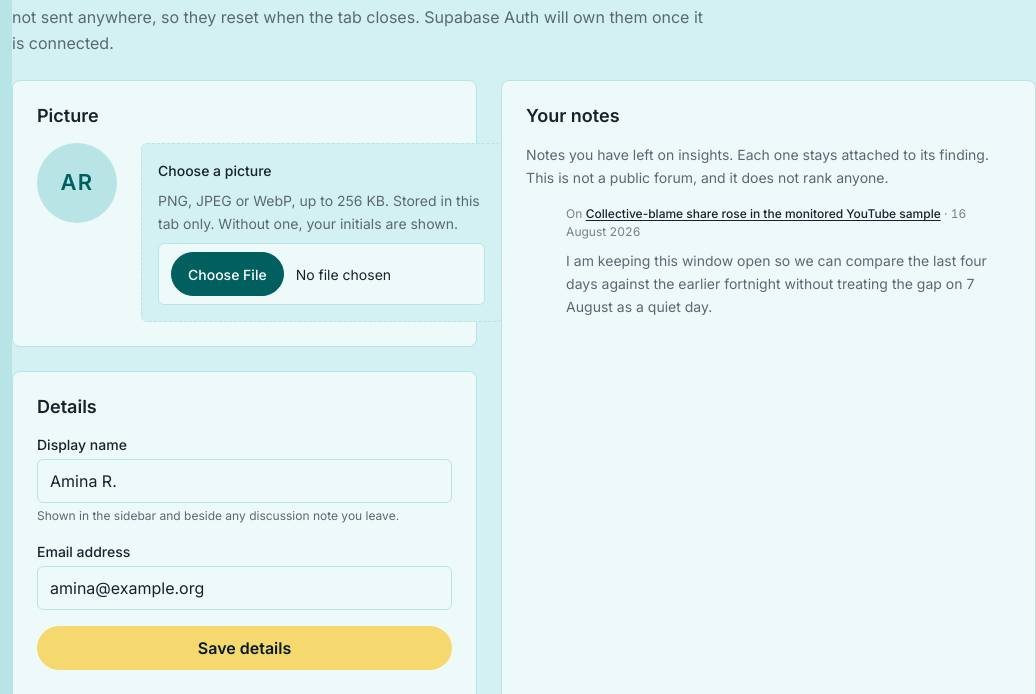
Test case: ProfilePage › saves a new display name into the session
Replace the text in the field labelled "Display name" with "Yusuf K." at (245, 481), box [37, 459, 452, 503]
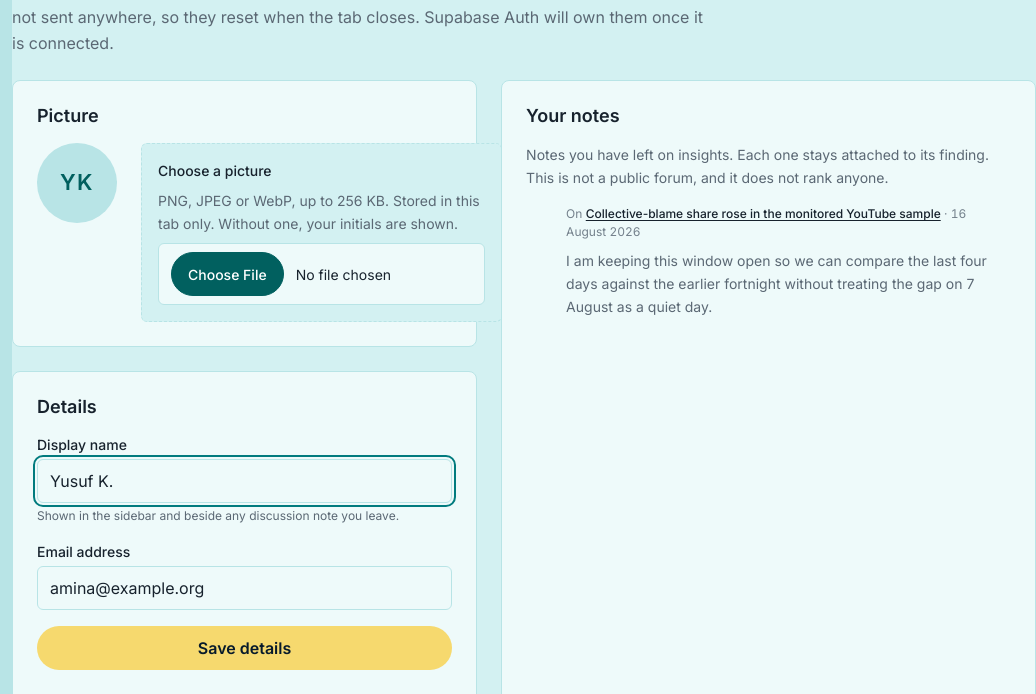
Click the button "Save details" at (245, 648), box [37, 626, 452, 670]
(page scrolled)
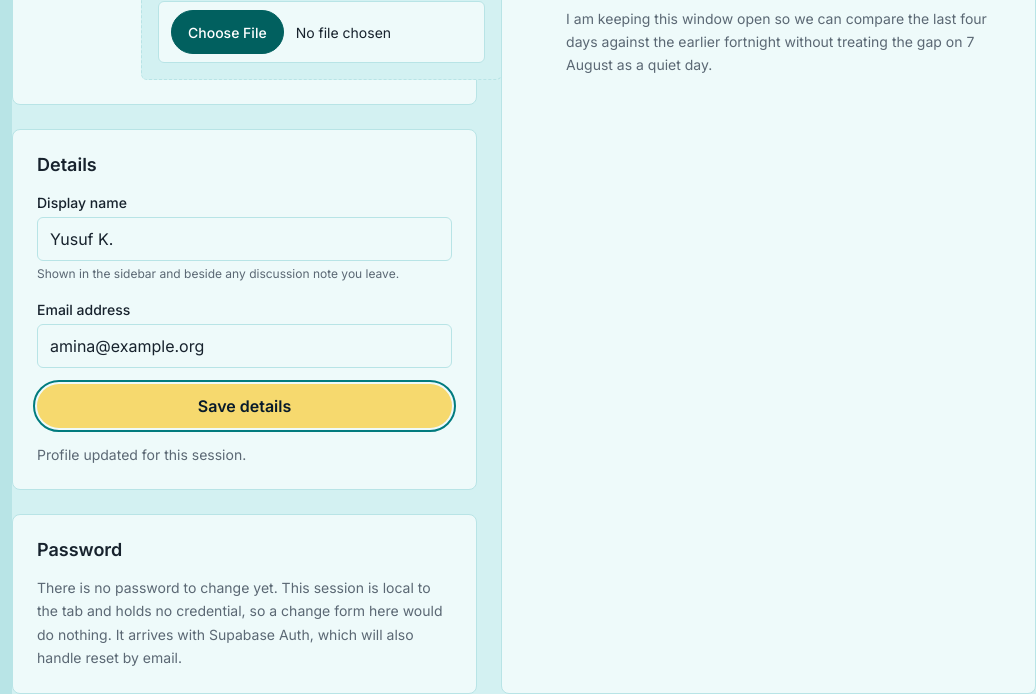
Result: the text "Profile updated for this session." is shown at [37, 446, 246, 463]
